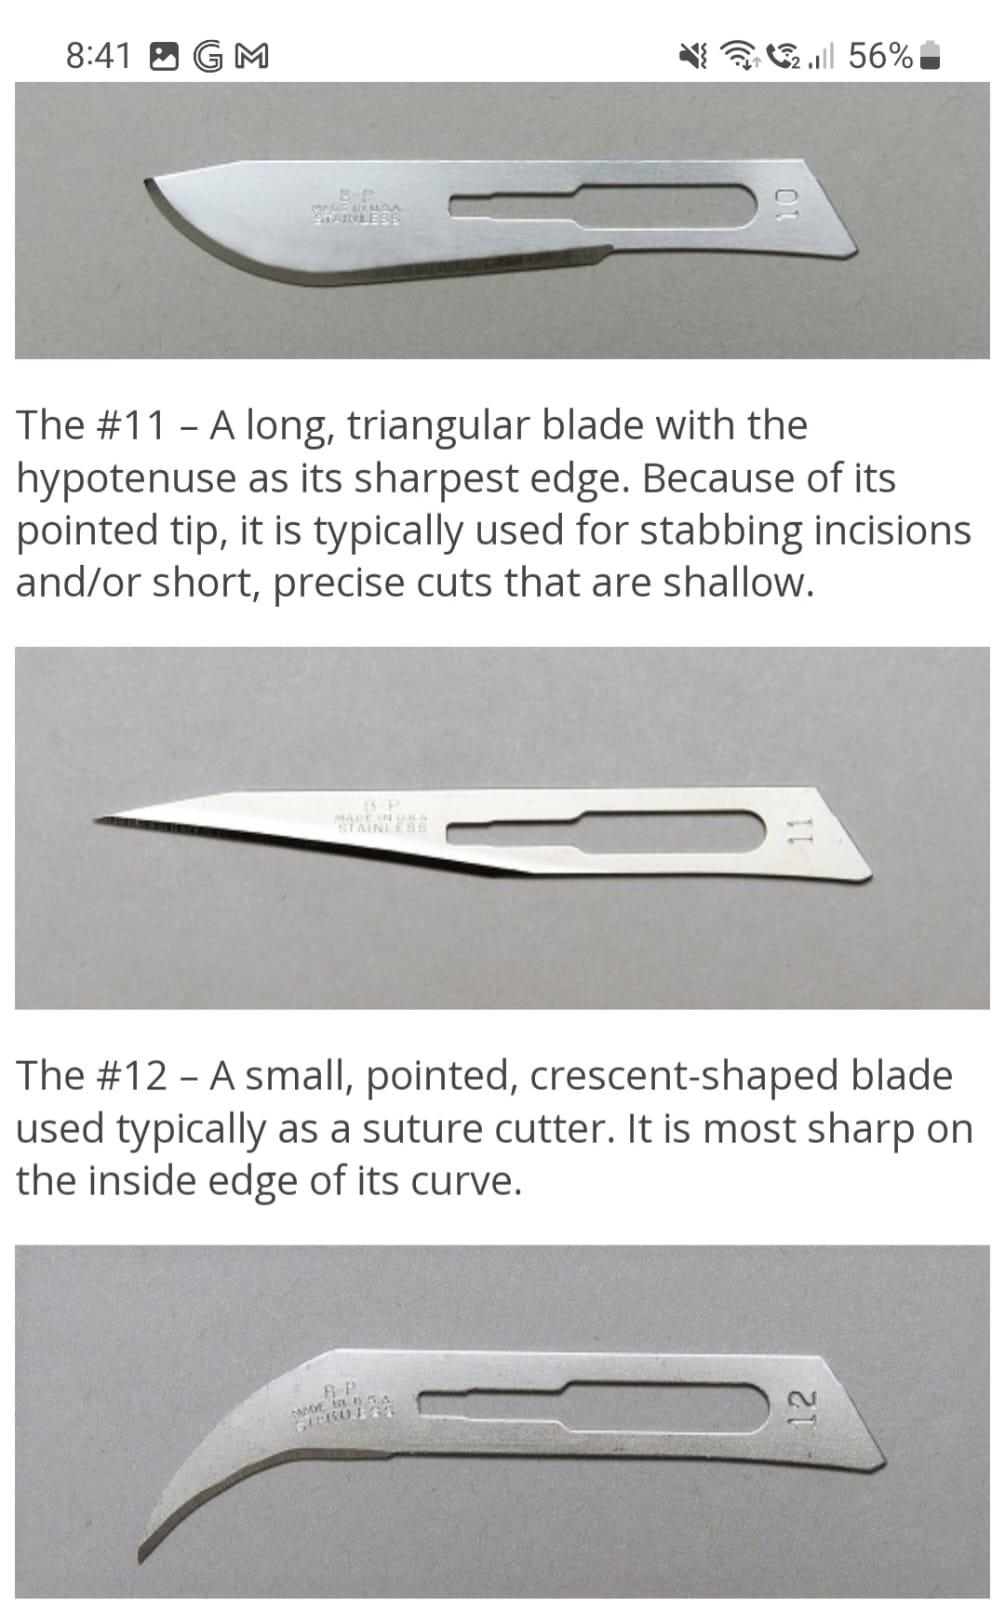Surgical blade: (127, 1322, 900, 1568), (82, 731, 900, 912), (123, 135, 878, 300)
